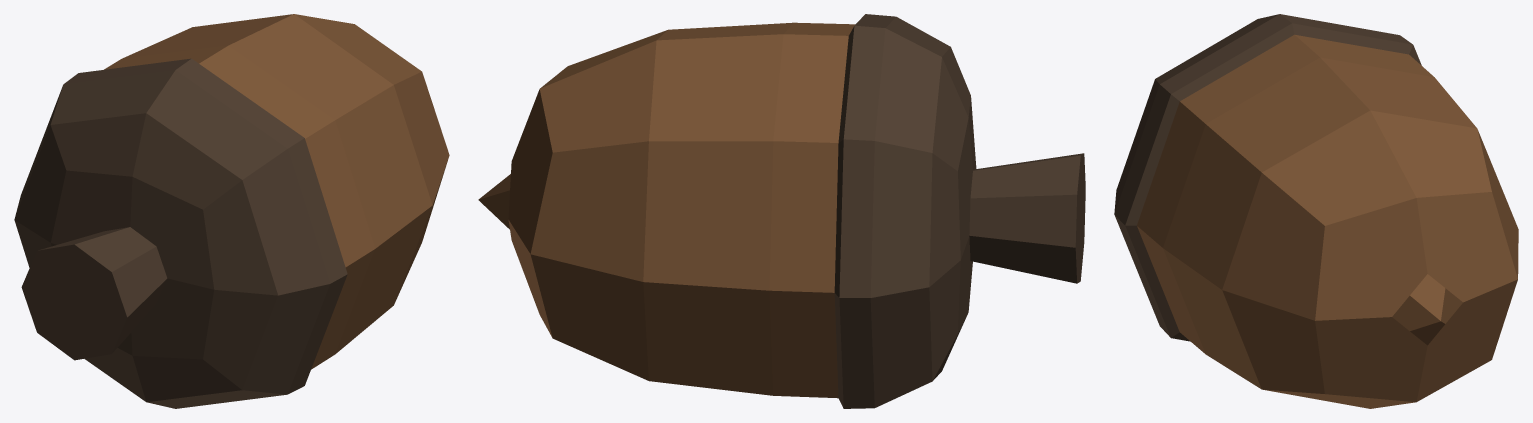
Rendered from dotori9.gltf.
The picture shows the model from 3 angles, left to right: view 1: azimuth 30°, elevation 25°; view 2: azimuth 150°, elevation 25°; view 3: azimuth 270°, elevation 25°; orthographic projection. The views are drawn at different scales.
Parts seen in each view (by area): view 1: Cube.006_Cube.006, Cube.005_Cube.006; view 2: Cube.005_Cube.006, Cube.006_Cube.006; view 3: Cube.005_Cube.006, Cube.006_Cube.006.
Boxes of the visible parts, x1,y1,x2,y2 form: Cube.006_Cube.006: [14, 58, 347, 408]; Cube.005_Cube.006: [104, 14, 449, 369]; Cube.005_Cube.006: [478, 22, 855, 398]; Cube.006_Cube.006: [834, 14, 1085, 408]; Cube.005_Cube.006: [1137, 34, 1518, 408]; Cube.006_Cube.006: [1114, 14, 1421, 341].
Bounding box in the file's own units: 2.85 × 2.04 × 2.22.
